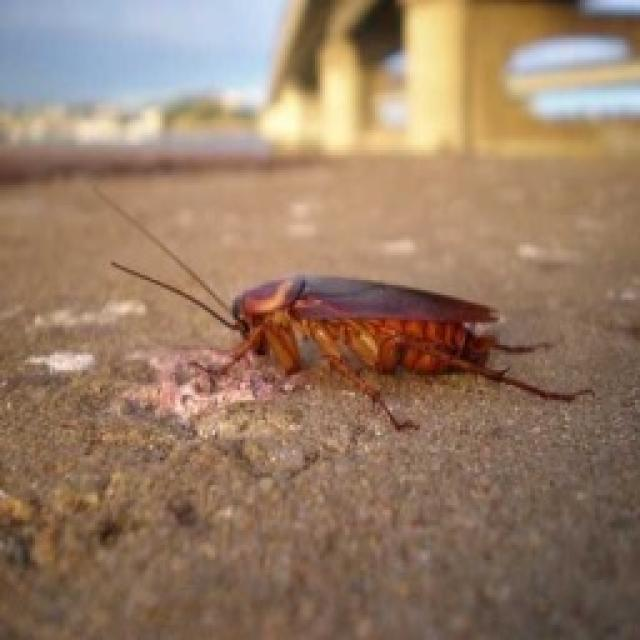cockroach: (86, 175, 597, 437)
